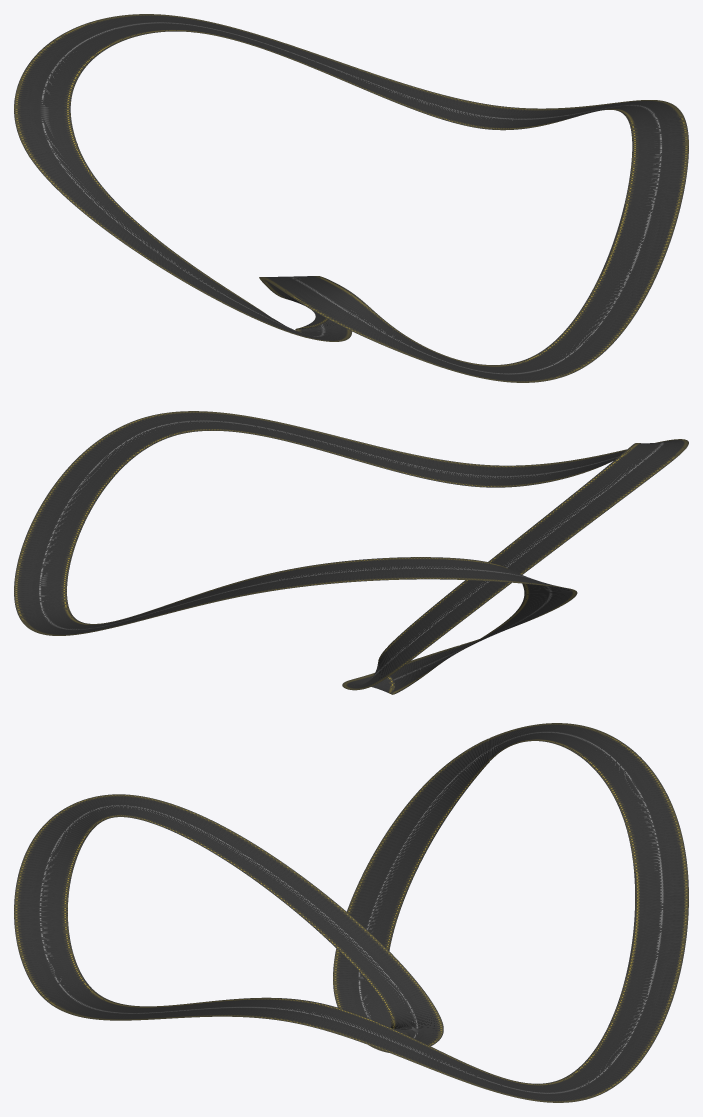
File: pista.obj
The picture shows the model from 3 angles, top to bottom: view 1: azimuth 30°, elevation 25°; view 2: azimuth 150°, elevation 25°; view 3: azimuth 270°, elevation 25°; orthographic projection. The views are drawn at different scales.
Parts seen in each view (by area): view 1: road; view 2: road; view 3: road.
Boxes of the visible parts, bbox=[...] form: road: bbox=[14, 14, 688, 382]; road: bbox=[14, 411, 688, 694]; road: bbox=[14, 723, 688, 1102].
Size of the model in its own units: 1.19 by 0.4635 by 1.25.
